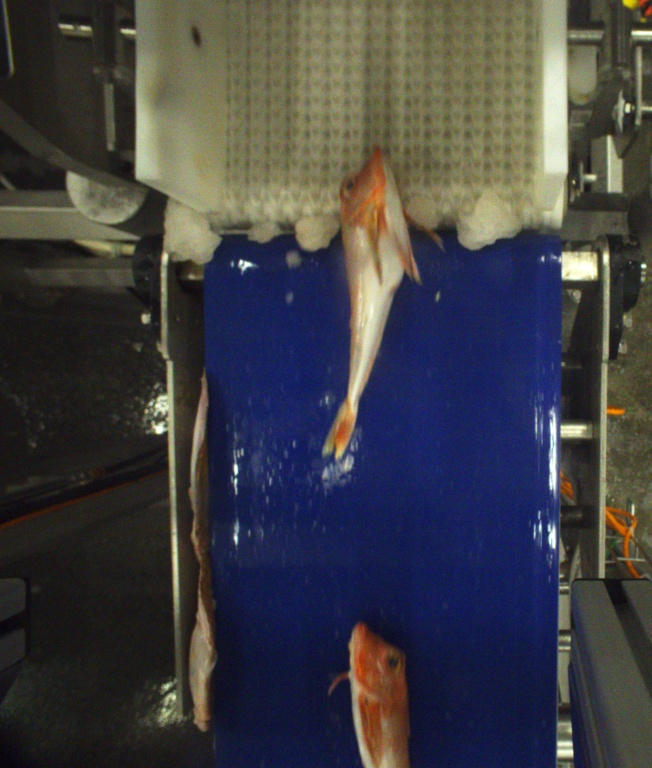GUU: (324, 144, 421, 461)
